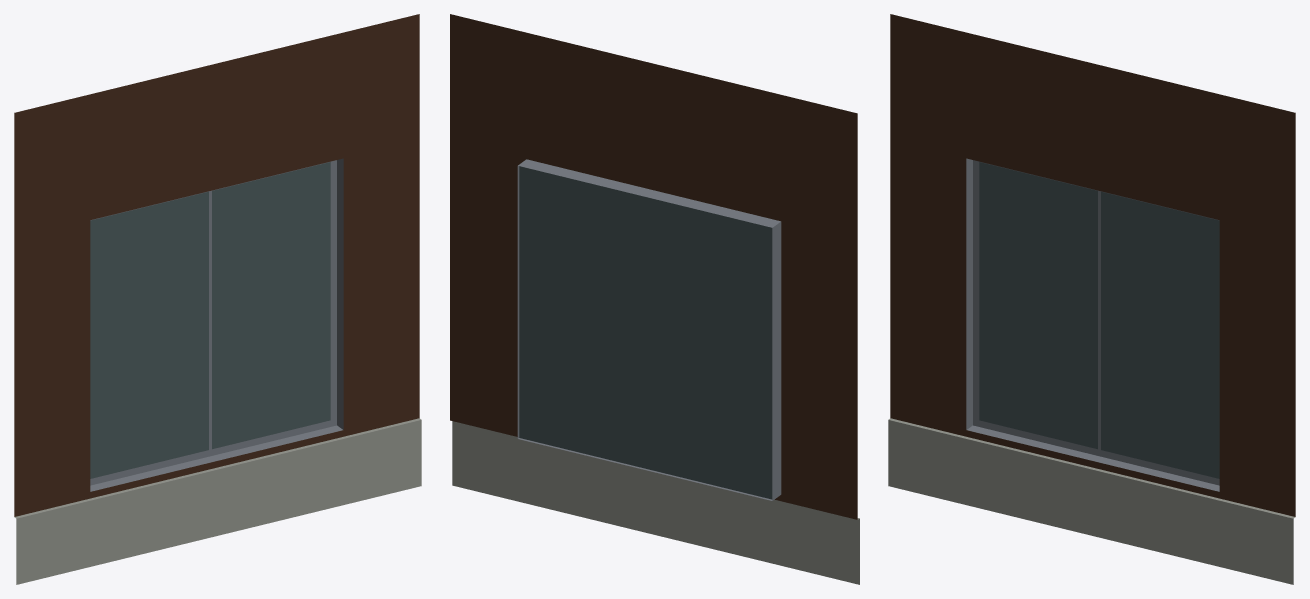
3 views of the same model, side by side, from view 1: azimuth 30°, elevation 25°; view 2: azimuth 150°, elevation 25°; view 3: azimuth 330°, elevation 25° (orthographic).
Visible parts, largest first — view 1: a2000/0/base-w3; view 2: a2000/0/base-w3; view 3: a2000/0/base-w3.
Part boxes in pixels (x1,y1,x2,y2): a2000/0/base-w3: (14,14,421,584); a2000/0/base-w3: (450,14,859,584); a2000/0/base-w3: (888,14,1295,584).
Size of the model in its own units: 3.2 by 3.55 by 0.15.
